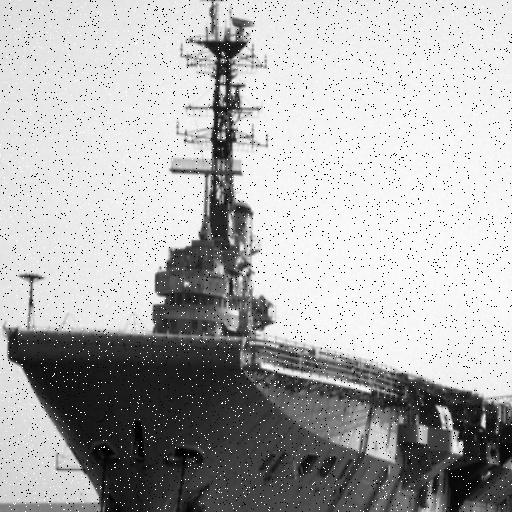Portanaves: (6, 1, 512, 512)
